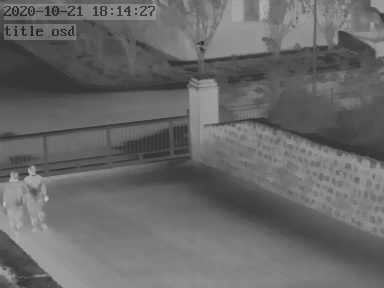person: (23, 165, 49, 233), (1, 175, 24, 234)
